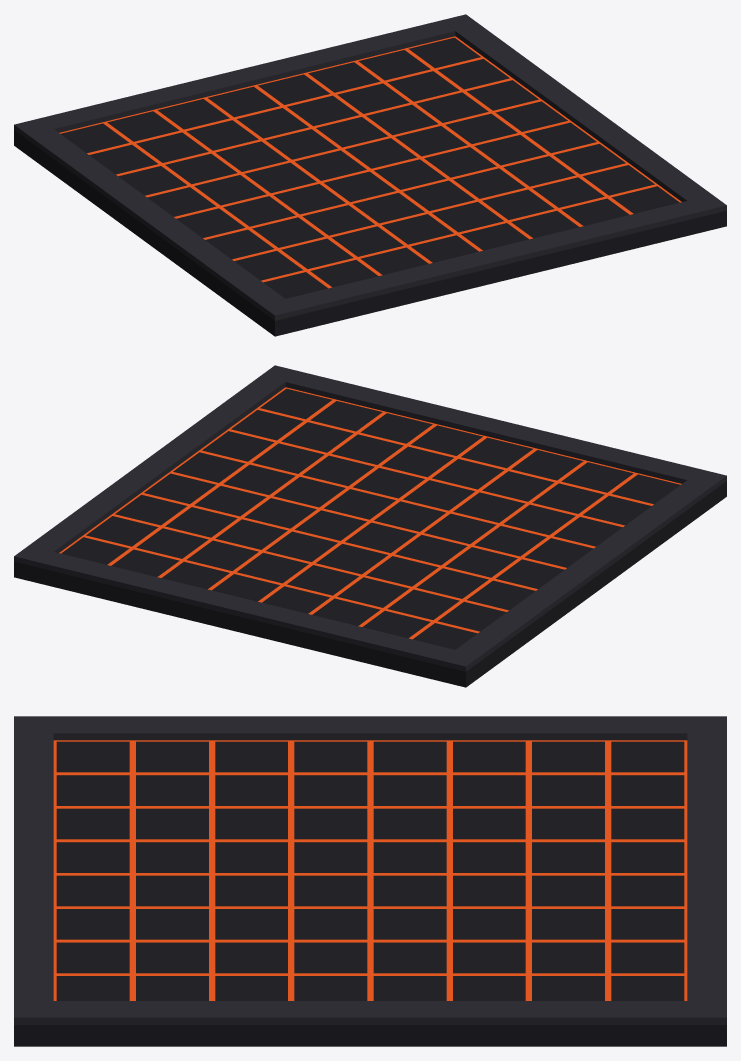
The model's file is board.glb.
3 renders of one model, top to bottom at view 1: azimuth 30°, elevation 25°; view 2: azimuth 150°, elevation 25°; view 3: azimuth 270°, elevation 25°, orthographic. The views are drawn at different scales.
Visible parts, largest first — view 1: slab, frame, cracks; view 2: slab, frame, cracks; view 3: slab, frame, cracks.
Boxes of the visible parts, bbox=[...] form: slab: bbox=[14, 37, 726, 336]; frame: bbox=[14, 14, 726, 320]; cracks: bbox=[59, 36, 681, 288]; slab: bbox=[14, 388, 726, 687]; frame: bbox=[14, 365, 726, 671]; cracks: bbox=[59, 387, 681, 639]; slab: bbox=[14, 741, 726, 1046]; frame: bbox=[14, 716, 726, 1024]; cracks: bbox=[53, 740, 687, 1000].
Size of the model in its own units: 9 by 0.4 by 9.
